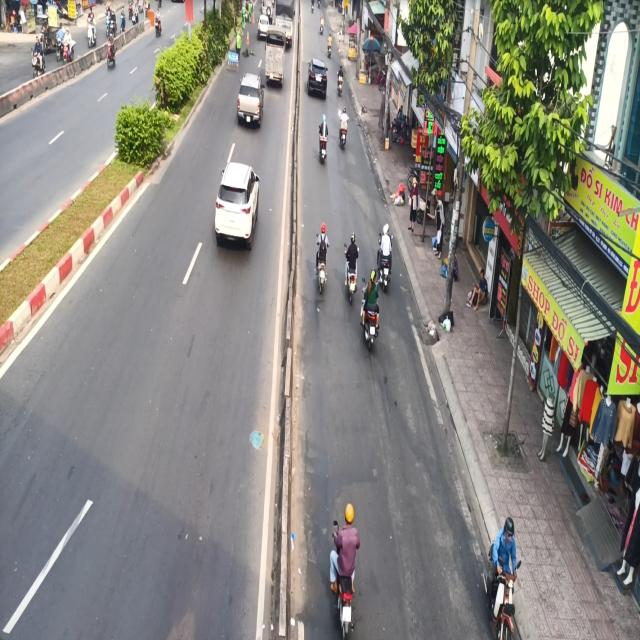car: (214, 156, 260, 246), (240, 64, 264, 129), (305, 51, 329, 97)
motor: (322, 495, 365, 634), (480, 514, 522, 640), (357, 263, 380, 349), (316, 218, 334, 310), (342, 233, 362, 301), (316, 109, 329, 169)
truck: (266, 28, 289, 90)
